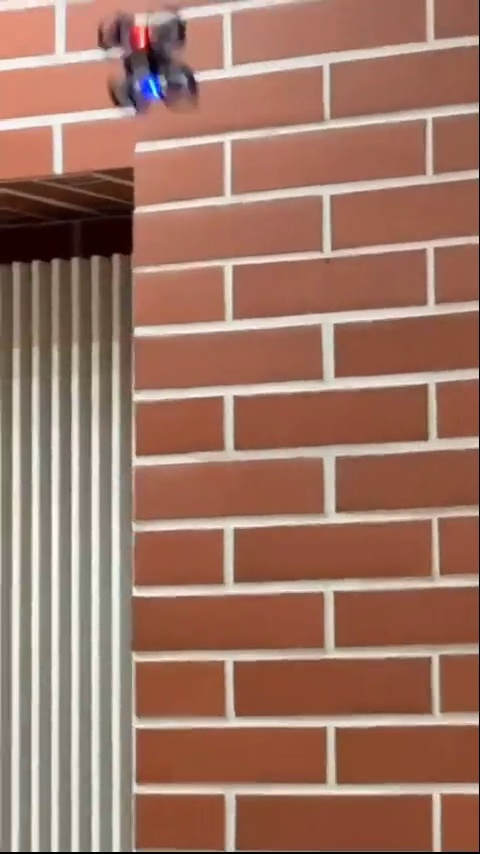drone: (94, 11, 217, 132)
